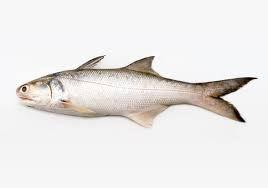Fourfinger Threadfish: (16, 54, 258, 129)
